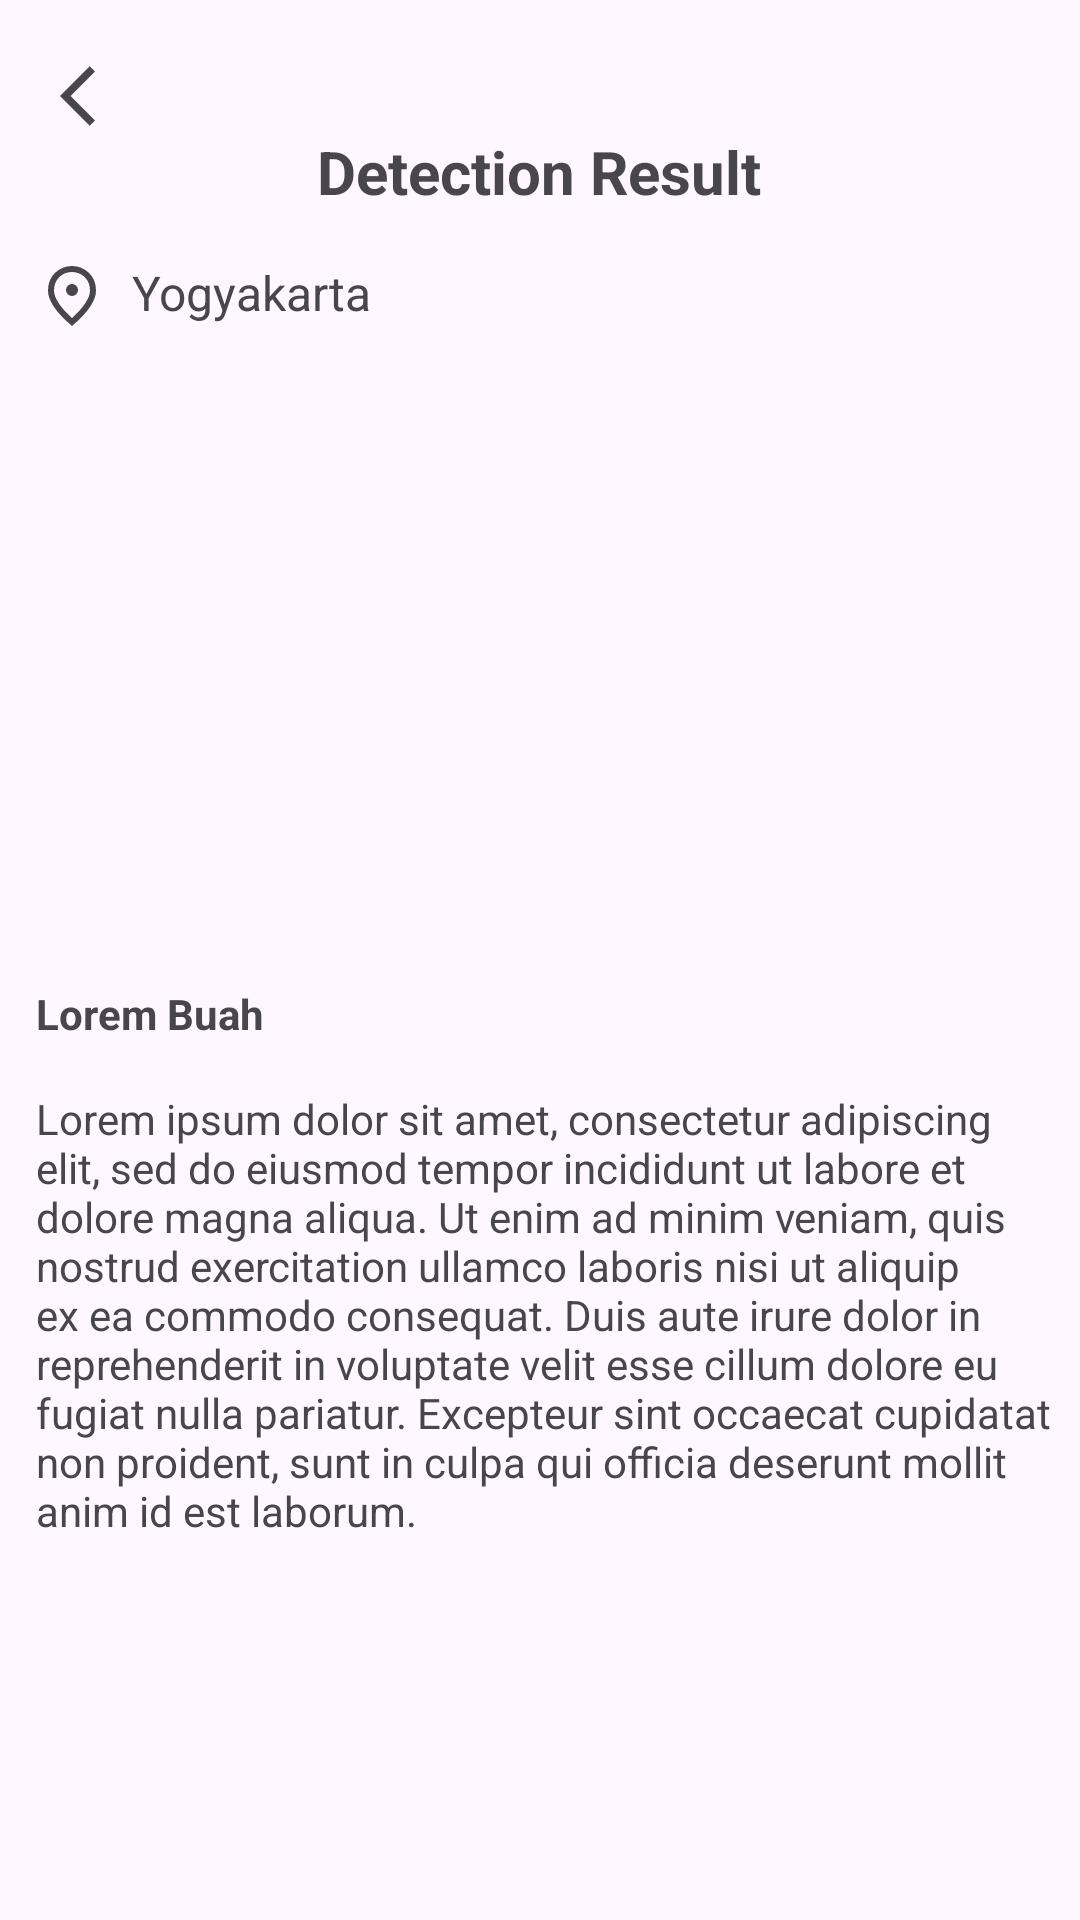

Screen size 1080px x 1920px. Icon name, then its center in pixels as [x,y]:
arrow back: [77,96]
location: [72,296]
